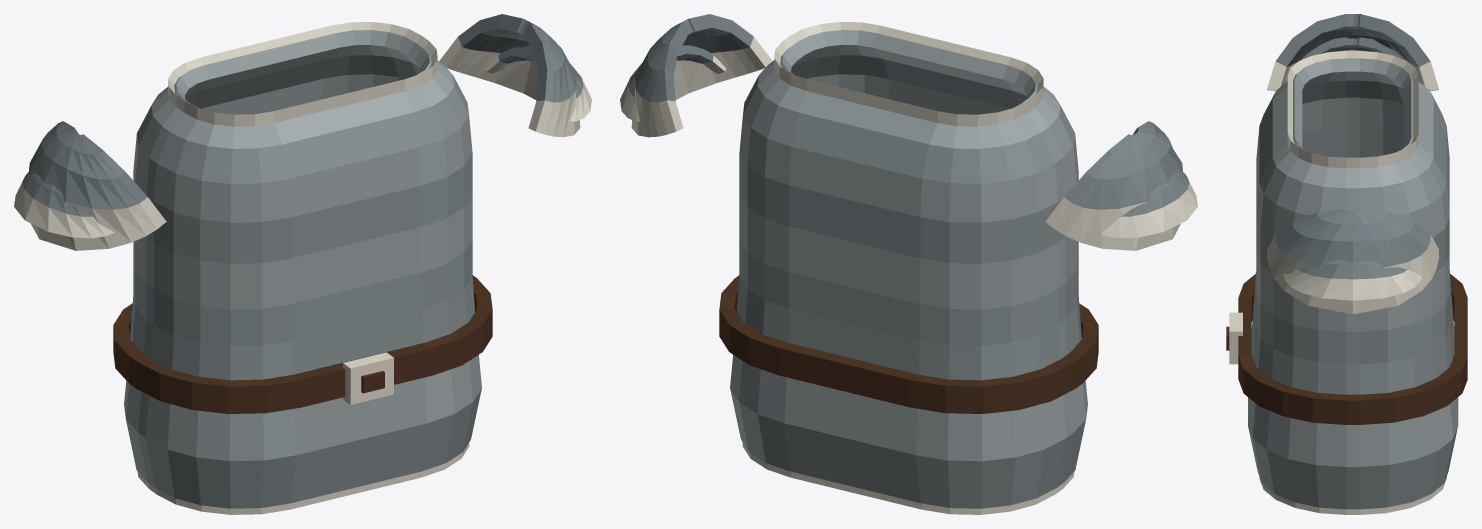
File: armor_body_chain.glb
3 views of the same model, side by side, from view 1: azimuth 30°, elevation 25°; view 2: azimuth 150°, elevation 25°; view 3: azimuth 270°, elevation 25° (orthographic). The views are drawn at different scales.
Visible parts, largest first — view 1: armor_body_chain, armor_body_chain_skirt, armor_body_chain_mail_R, armor_body_chain_mail_L; view 2: armor_body_chain, armor_body_chain_skirt, armor_body_chain_mail_R, armor_body_chain_mail_L; view 3: armor_body_chain, armor_body_chain_skirt, armor_body_chain_mail_L, armor_body_chain_mail_R.
Boxes of the visible parts, box(x1,y1,x2,y2) form: armor_body_chain: box(133, 22, 472, 345); armor_body_chain_skirt: box(113, 275, 492, 514); armor_body_chain_mail_R: box(14, 121, 166, 250); armor_body_chain_mail_L: box(439, 14, 591, 137); armor_body_chain: box(739, 22, 1078, 345); armor_body_chain_skirt: box(719, 275, 1098, 514); armor_body_chain_mail_R: box(1045, 121, 1197, 250); armor_body_chain_mail_L: box(620, 14, 772, 137); armor_body_chain: box(1256, 51, 1449, 364); armor_body_chain_skirt: box(1226, 270, 1467, 514); armor_body_chain_mail_L: box(1267, 209, 1439, 314); armor_body_chain_mail_R: box(1267, 14, 1438, 90).
Bounding box in the file's own units: 1.27 × 0.8467 × 0.537.
